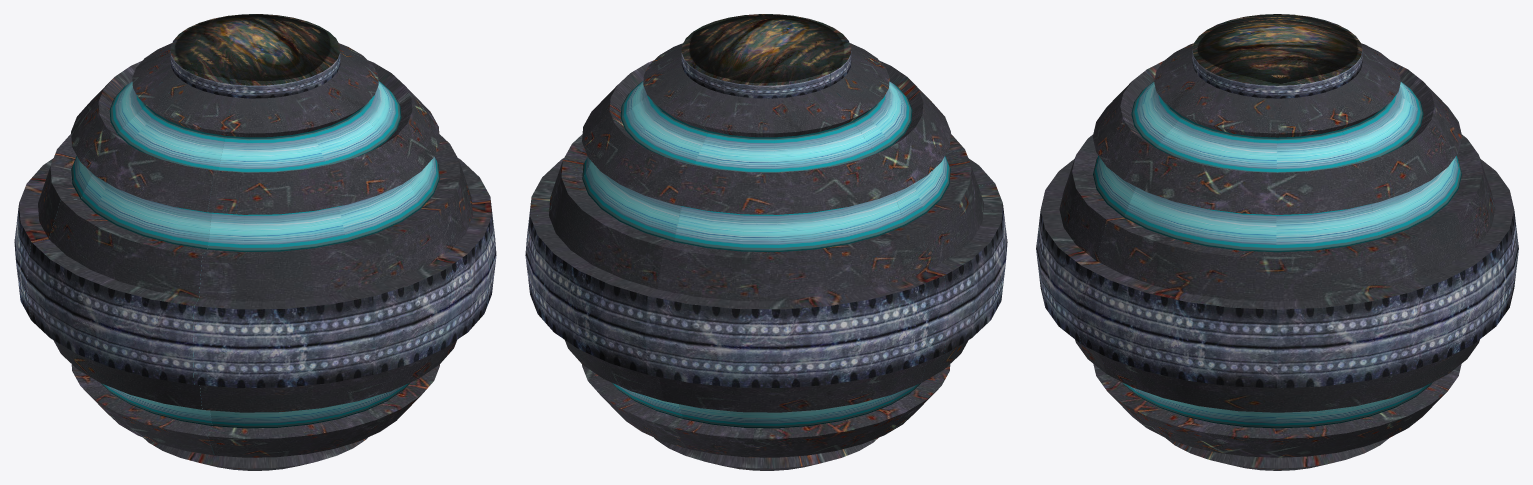
File: MapS_Shatter.FBX
3 renders of one model, left to right at view 1: azimuth 30°, elevation 25°; view 2: azimuth 150°, elevation 25°; view 3: azimuth 270°, elevation 25°, orthographic.
Parts seen in each view (by area): view 1: MS_Shatter_0, MS_Shatter_3, MS_Shatter_1, MS_Shatter_4, MS_Shatter_2; view 2: MS_Shatter_4, MS_Shatter_2, MS_Shatter_3, MS_Shatter_1, MS_Shatter_0; view 3: MS_Shatter_1, MS_Shatter_2, MS_Shatter_0, MS_Shatter_4, MS_Shatter_3.
Part boxes in pixels (x1=…): MS_Shatter_0: x1=193, y1=34, x2=471, y2=470; MS_Shatter_3: x1=27, y1=34, x2=254, y2=469; MS_Shatter_1: x1=256, y1=17, x2=496, y2=439; MS_Shatter_4: x1=14, y1=19, x2=254, y2=385; MS_Shatter_2: x1=213, y1=14, x2=292, y2=34; MS_Shatter_4: x1=645, y1=34, x2=947, y2=470; MS_Shatter_2: x1=525, y1=34, x2=765, y2=461; MS_Shatter_3: x1=767, y1=33, x2=1007, y2=450; MS_Shatter_1: x1=525, y1=14, x2=766, y2=365; MS_Shatter_0: x1=761, y1=14, x2=994, y2=185; MS_Shatter_1: x1=1076, y1=34, x2=1411, y2=470; MS_Shatter_2: x1=1278, y1=34, x2=1518, y2=459; MS_Shatter_0: x1=1036, y1=24, x2=1276, y2=445; MS_Shatter_4: x1=1277, y1=14, x2=1514, y2=209; MS_Shatter_3: x1=1192, y1=14, x2=1293, y2=43.
Size of the model in its own units: 17.11 by 16.25 by 17.11.
